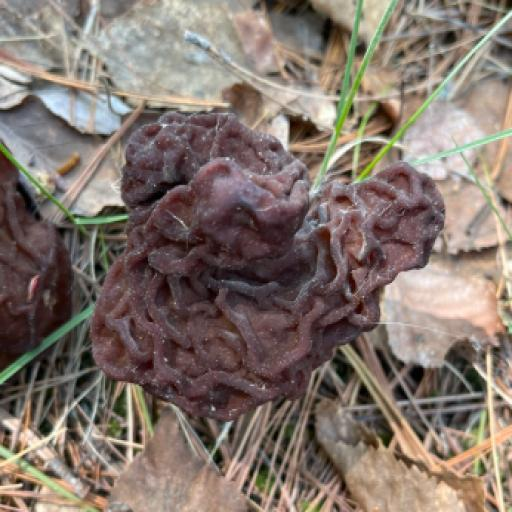mushroom: (63, 102, 451, 451)
